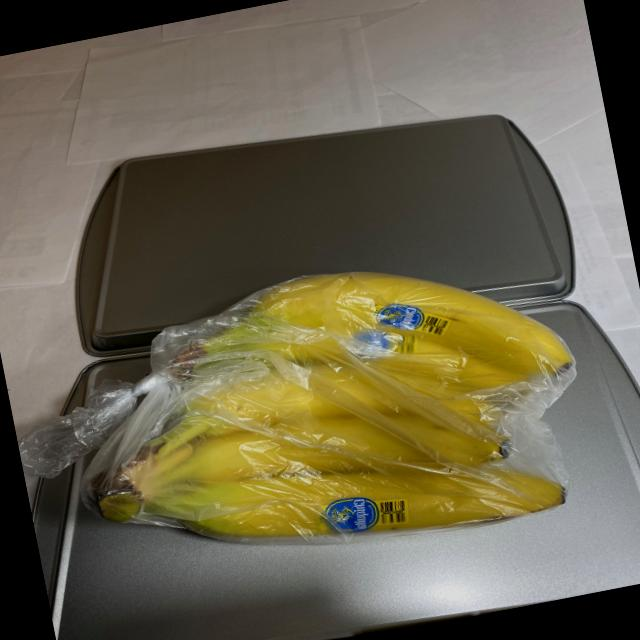banana: (49, 228, 600, 606)
